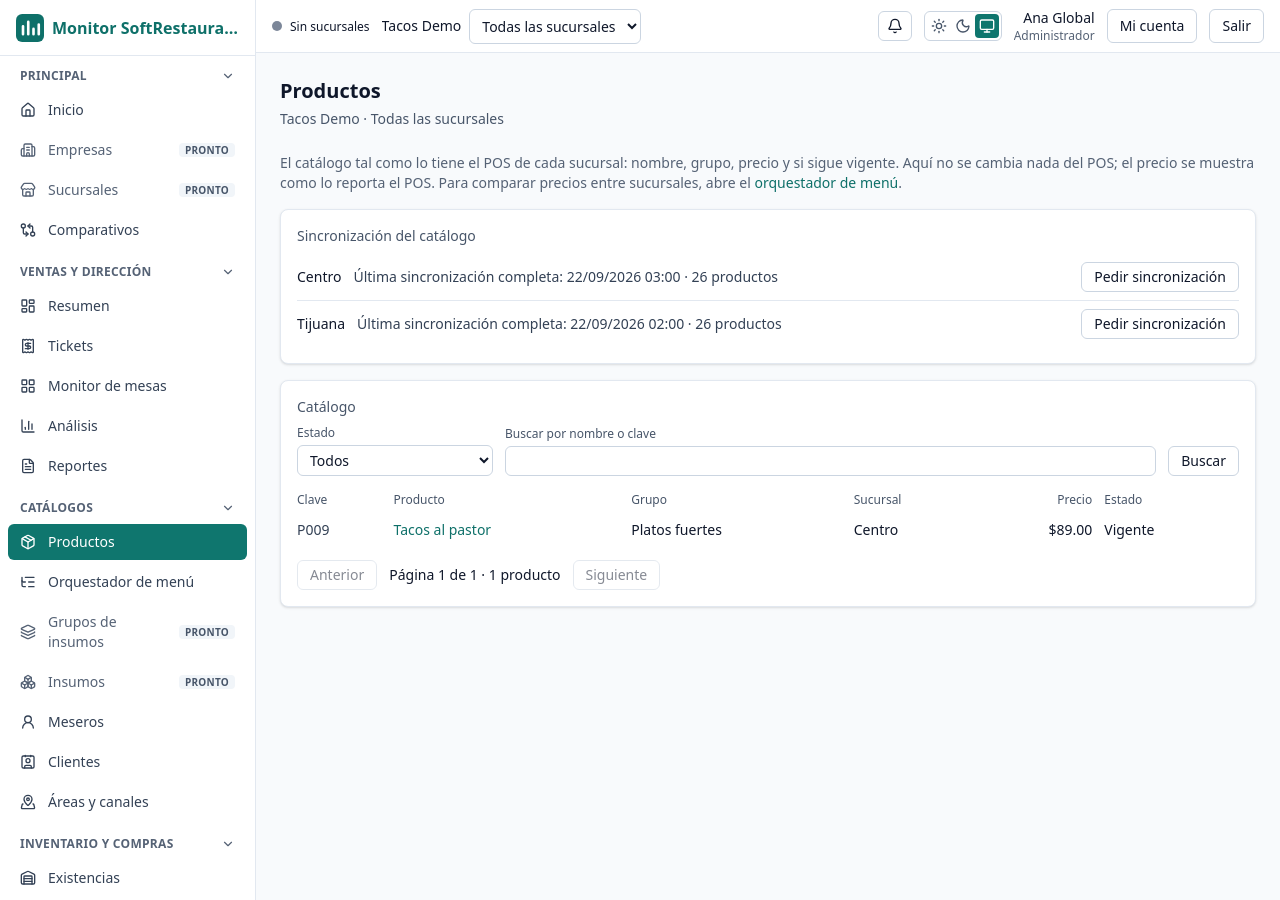
Test: Productos › un admin pide la sincronización de una sucursal
Expected: the list with test id "sincronizacion" is shown, x1=297 y1=254 x2=1239 y2=347
Step 1. Click the 1st button "Pedir sincronización" → (1160, 277), box x1=1081 y1=262 x2=1239 y2=292
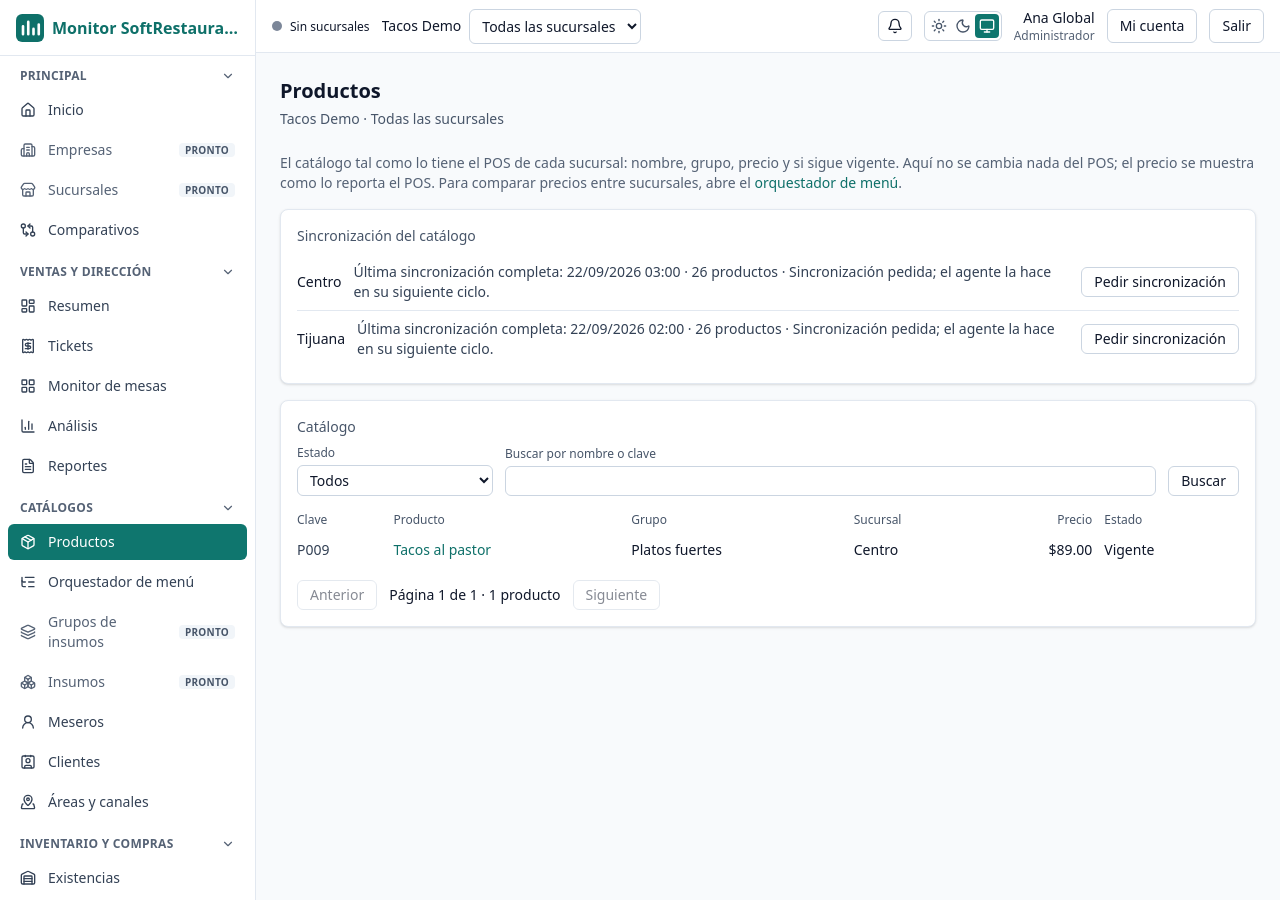
Result: the text "Sincronización pedida" is shown at x1=353 y1=262 x2=1051 y2=301
